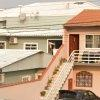stairs: (42, 59, 73, 100)
